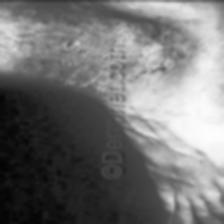Non-Cancerous Skin Condition: (12, 0, 102, 72), (128, 19, 186, 85)
